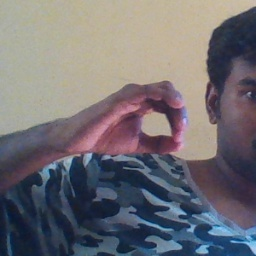O: (65, 75, 192, 160)
